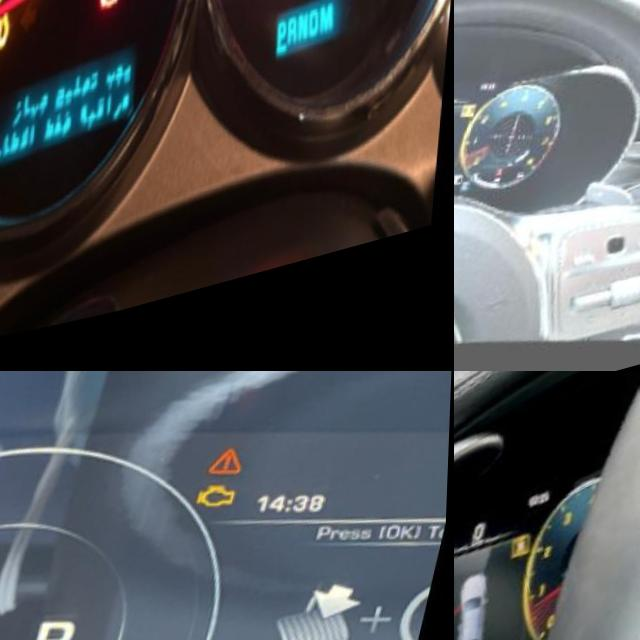Central Warning lamp: (204, 457, 255, 508)
Engine cooling system: (499, 188, 510, 202)
security: (14, 0, 44, 13)
